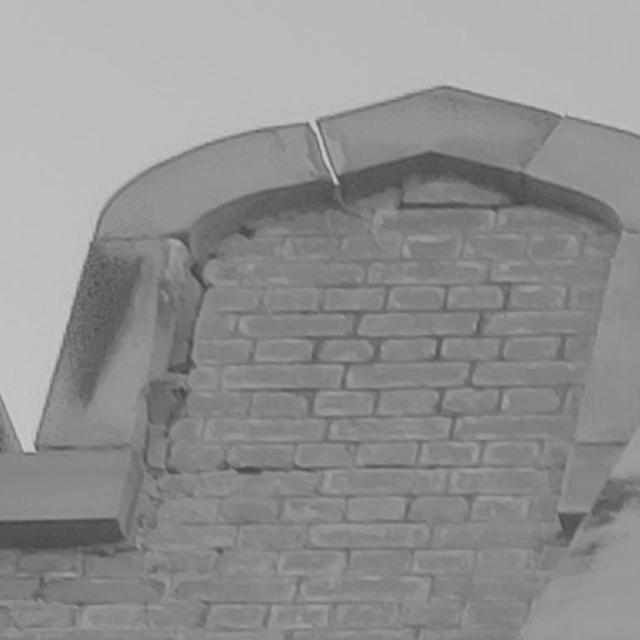crack: (163, 225, 285, 475), (396, 179, 526, 210)
